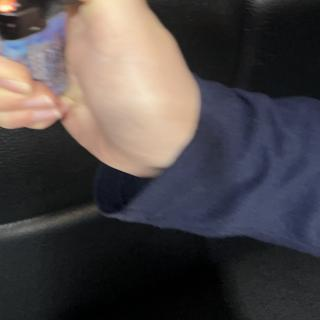fire: (0, 0, 23, 14)
